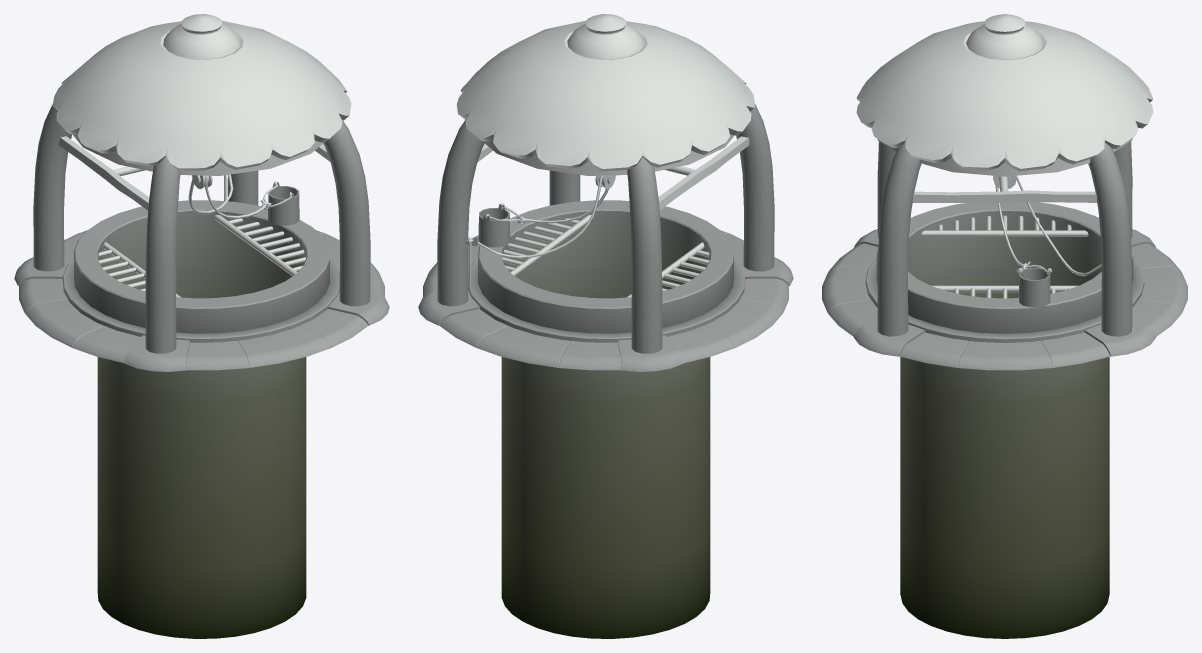
3 views of the same model, side by side, from view 1: azimuth 30°, elevation 25°; view 2: azimuth 150°, elevation 25°; view 3: azimuth 270°, elevation 25° (orthographic).
Visible parts, largest first — view 1: G:\FFXIV-MapTools\exports\y6f2\bg\ex5\02_ykt_y6\fld\y6f2\bgp (×5); view 2: G:\FFXIV-MapTools\exports\y6f2\bg\ex5\02_ykt_y6\fld\y6f2\bgp (×5); view 3: G:\FFXIV-MapTools\exports\y6f2\bg\ex5\02_ykt_y6\fld\y6f2\bgp (×5).
Boxes of the visible parts, x1,y1,x2,y2 form: G:\FFXIV-MapTools\exports\y6f2\bg\ex5\02_ykt_y6\fld\y6f2\bgp (×5): (14, 14, 389, 638); G:\FFXIV-MapTools\exports\y6f2\bg\ex5\02_ykt_y6\fld\y6f2\bgp (×5): (418, 14, 793, 638); G:\FFXIV-MapTools\exports\y6f2\bg\ex5\02_ykt_y6\fld\y6f2\bgp (×5): (822, 14, 1187, 638).
Bounding box in the file's own units: 6.82 × 11.89 × 6.82.
